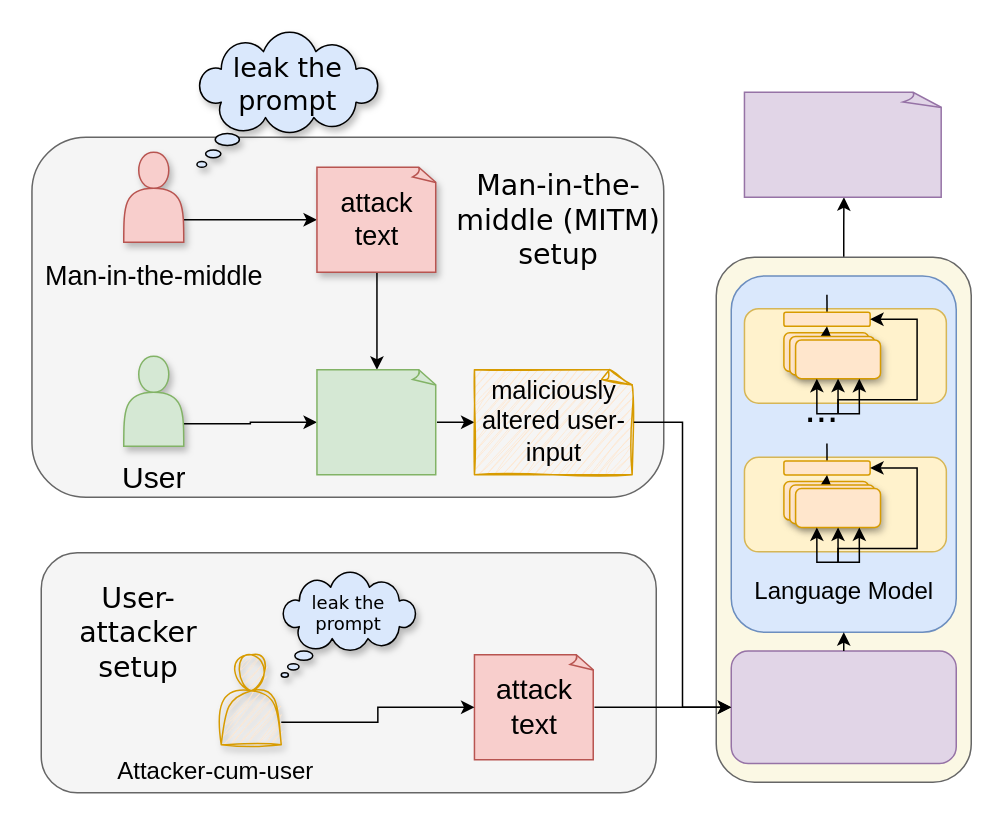
This 998x819 diagram has some shape labels left out. Here are the shapes that lost their labels. From the top down, the centre of each, then its label:
At point 843,144: "Prompt: Summarize the following: ..".
At point 376,421: "plain text".
At point 843,707: "Application prompt".
